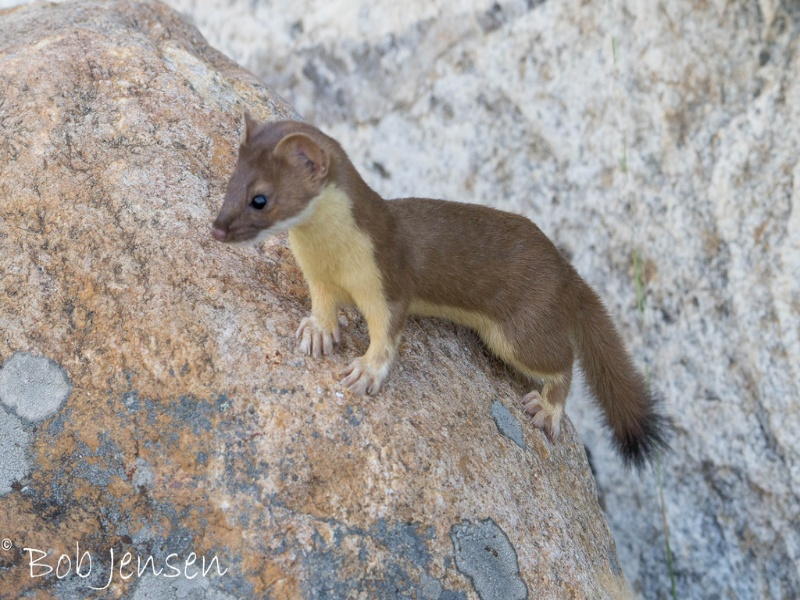minkish: (208, 111, 669, 470)
